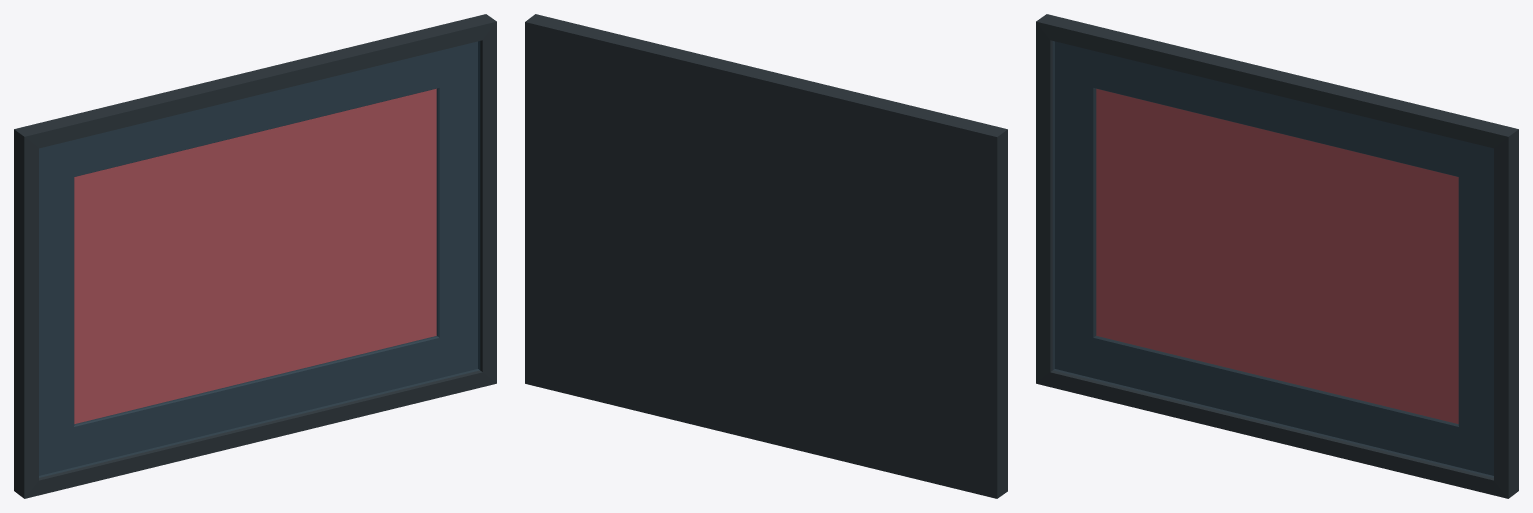
File: Frame.fbx
The picture shows the model from 3 angles, left to right: view 1: azimuth 30°, elevation 25°; view 2: azimuth 150°, elevation 25°; view 3: azimuth 330°, elevation 25°; orthographic projection.
Visible parts, largest first — view 1: Glass, Frame_A, Image; view 2: Frame_A; view 3: Glass, Frame_A, Image.
Part boxes in pixels (<box>): Glass: <box>39,41,479,476</box>; Frame_A: <box>14,14,496,498</box>; Image: <box>74,88,436,423</box>; Frame_A: <box>525,14,1007,498</box>; Glass: <box>1053,41,1493,476</box>; Frame_A: <box>1036,14,1518,498</box>; Image: <box>1096,88,1458,423</box>.
Size of the model in its own units: 897 by 657 by 35.5.
